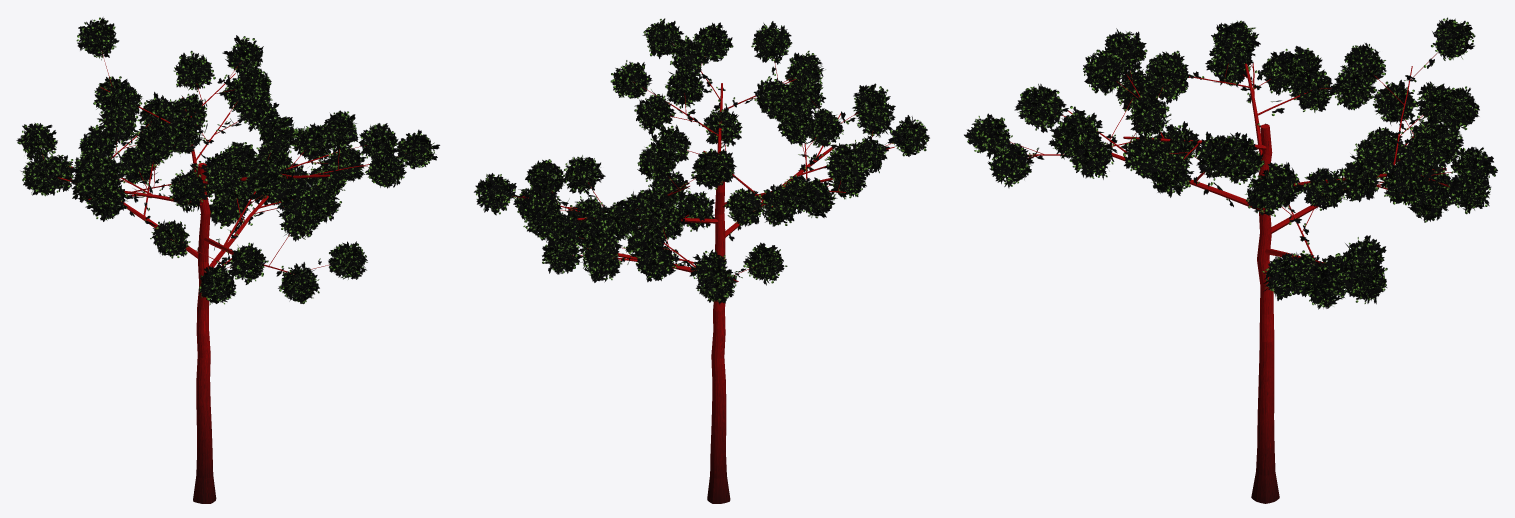
Rendered from pine_open_v03.glb.
The picture shows the model from 3 angles, left to right: view 1: azimuth 30°, elevation 25°; view 2: azimuth 150°, elevation 25°; view 3: azimuth 270°, elevation 25°; orthographic projection. The views are drawn at different scales.
Parts seen in each view (by area): view 1: pine_open_v03; view 2: pine_open_v03; view 3: pine_open_v03.
Part boxes in pixels (x1,y1,x2,y2): pine_open_v03: [16, 17, 439, 503]; pine_open_v03: [474, 18, 929, 503]; pine_open_v03: [964, 17, 1497, 503].
Bounding box in the file's own units: 21 × 28.09 × 29.07.
2 materials, 2 textured.
